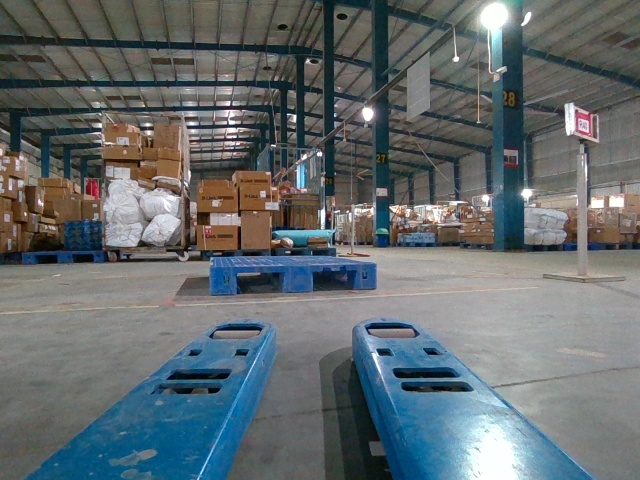block: (282, 260, 314, 292), (208, 265, 238, 298), (358, 260, 378, 289)
front: (212, 262, 378, 293)
hole pallet: (232, 267, 288, 294), (311, 263, 362, 292)
